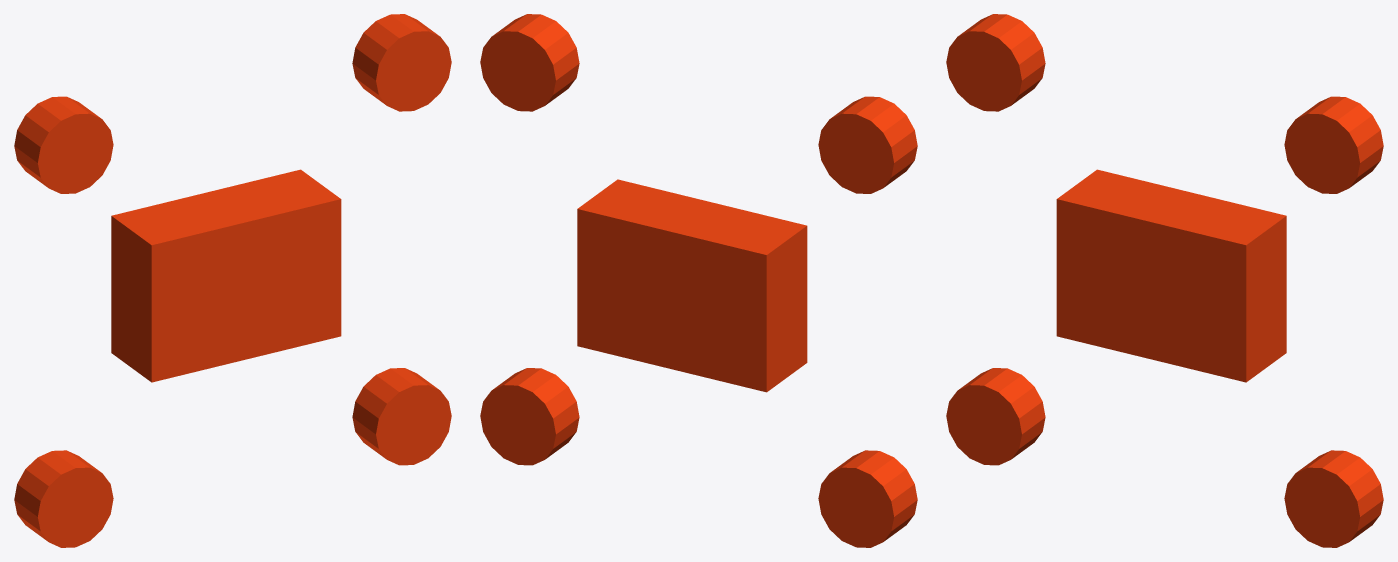
Rendered from orange.obj.
3 renders of one model, left to right at view 1: azimuth 30°, elevation 25°; view 2: azimuth 150°, elevation 25°; view 3: azimuth 330°, elevation 25°, orthographic.
Parts seen in each view (by area): view 1: geometry; view 2: geometry; view 3: geometry.
Boxes of the visible parts, bbox=[...] form: geometry: bbox=[14, 14, 451, 547]; geometry: bbox=[480, 14, 917, 547]; geometry: bbox=[946, 14, 1383, 547].
Size of the model in its own units: 1.42 by 1.42 by 0.24.
